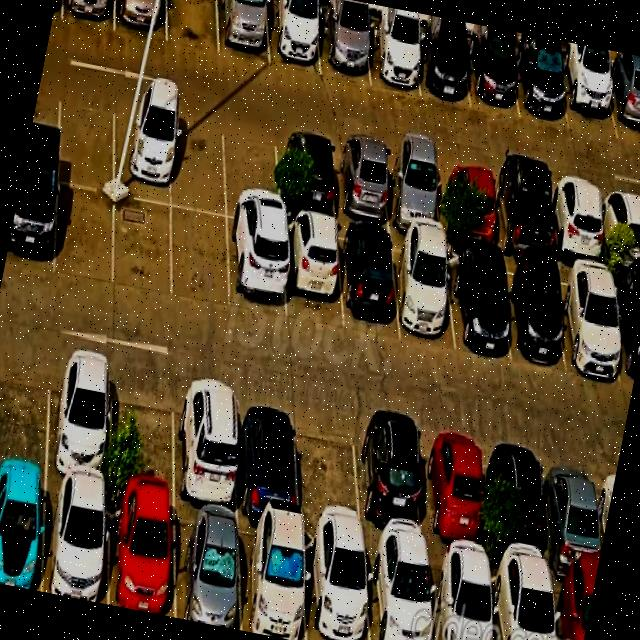empty: (297, 401, 363, 539), (111, 362, 175, 503), (0, 340, 50, 474), (223, 119, 280, 228), (55, 184, 115, 286), (58, 86, 114, 192), (114, 196, 171, 300), (171, 109, 226, 216), (172, 208, 230, 309), (167, 0, 219, 54)
occupied: (355, 412, 427, 551), (46, 348, 112, 489), (420, 422, 485, 563), (176, 375, 238, 515), (173, 505, 241, 631), (237, 388, 299, 524), (109, 492, 175, 618), (43, 479, 108, 605), (239, 518, 306, 640), (492, 434, 551, 572), (544, 445, 603, 580), (556, 263, 623, 380), (445, 249, 511, 362), (498, 258, 565, 367), (304, 530, 370, 640), (392, 236, 455, 351), (339, 226, 400, 337), (283, 216, 342, 329), (365, 544, 433, 640), (114, 97, 172, 206), (227, 220, 286, 320), (491, 168, 553, 261), (428, 553, 494, 640), (4, 171, 58, 276), (0, 471, 46, 592), (437, 159, 497, 249), (277, 130, 336, 220), (383, 148, 442, 236), (557, 54, 618, 139), (333, 139, 391, 228), (490, 564, 556, 640), (549, 178, 606, 265), (514, 42, 569, 129), (466, 34, 520, 118), (414, 28, 470, 107), (365, 18, 420, 96), (266, 0, 321, 75), (319, 9, 370, 83), (600, 186, 640, 271), (611, 272, 640, 388), (218, 0, 269, 65), (603, 61, 640, 144), (551, 573, 596, 640), (115, 0, 167, 41), (62, 0, 115, 31)
